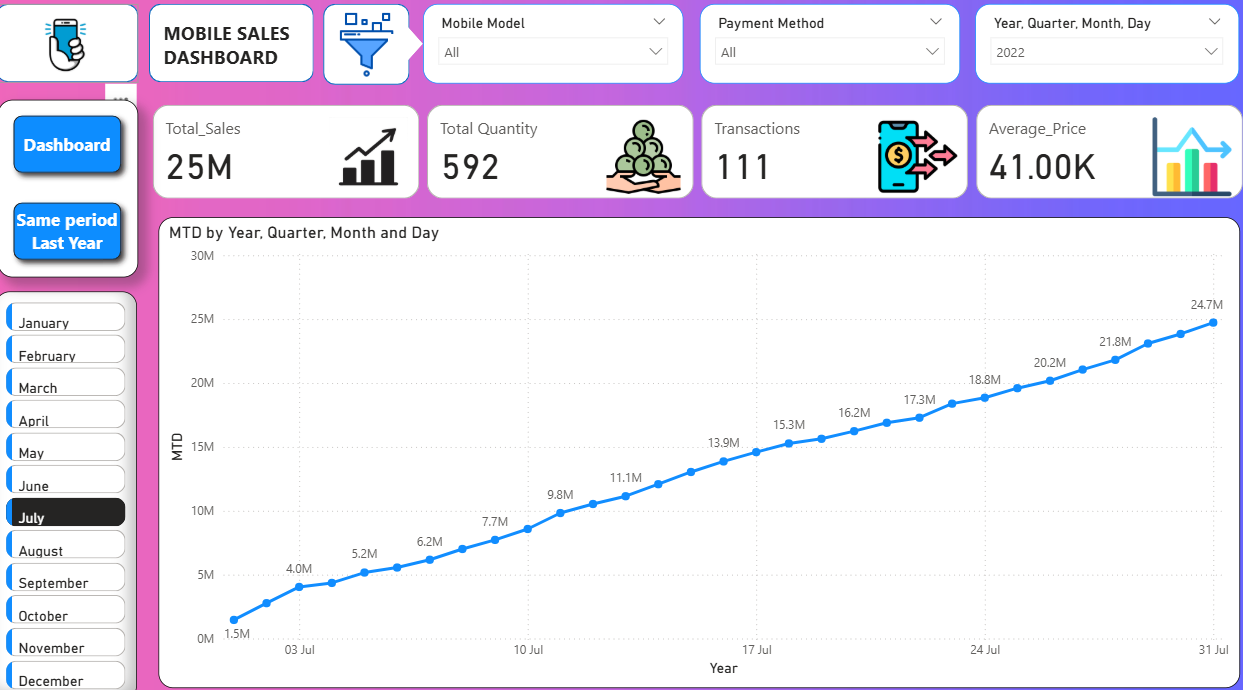

This screenshot's page, from the dashboard's own definition file:
{"tool":"powerbi","page":{"name":"MTD Report","canvas":[1280,720],"ordinal":1},"visuals":[{"type":"shape","box":[9.6,15,143.6,79.3],"z":0},{"type":"image","box":[32,16,96,80],"z":1000},{"type":"cardVisual","fields":{"Data":["Sales_Data.Total_Sales","Sales_Data.Total Quantity","Sales_Data.Transactions","Sales_Data.Average_Price"]},"box":[163.3,112.2,1116.7,105.6],"z":3000},{"type":"slicer","fields":{"Values":["Sales_Data.Mobile Model"]},"box":[442.1,14.8,263.9,80.8],"z":4000},{"type":"slicer","fields":{"Values":["Sales_Data.Payment Method"]},"box":[722.5,14.8,263.9,80.8],"z":5000},{"type":"slicer","fields":{"Values":["Custom_Calendar.Date.Variation.Date Hierarchy.Year","Custom_Calendar.Date.Variation.Date Hierarchy.Quarter","Custom_Calendar.Date.Variation.Date Hierarchy.Month","Custom_Calendar.Date.Variation.Date Hierarchy.Day"]},"box":[1001.2,14.8,267.2,80.8],"z":6000},{"type":"shape","box":[340.5,15,87.5,82],"z":7000},{"type":"image","box":[345.9,16.4,76.6,80.7],"z":8000},{"type":"shape","box":[406.1,35.6,35.6,39.7],"z":9000},{"type":"shape","box":[164.1,15,166.8,79.3],"z":10000},{"type":"textbox","box":[173.6,26,147.7,58.8],"z":11000},{"type":"lineChart","fields":{"Y":["Sales_Data.MTD"],"Category":["Custom_Calendar.Date.Variation.Date Hierarchy.Year","Custom_Calendar.Date.Variation.Date Hierarchy.Quarter","Custom_Calendar.Date.Variation.Date Hierarchy.Month","Custom_Calendar.Date.Variation.Date Hierarchy.Day"]},"box":[173.2,230.9,1095.2,476.7],"z":12000},{"type":"advancedSlicerVisual","fields":{"Values":["Custom_Calendar.Date.Variation.Date Hierarchy.Month"]},"box":[8.2,306.8,143.5,414],"z":13000},{"type":"pageNavigator","box":[11.5,112.2,141.9,179.8],"z":14000}]}

Visuals, with their boxes in screenshot pixels (x1, y1, x2, y2), scaled from the page's 1280x720 canvas onto the 1243x690 screenshot:
shape: crop(9, 14, 149, 90)
image: crop(31, 15, 124, 92)
cardVisual - Sales_Data.Total_Sales x Sales_Data.Total Quantity: crop(159, 108, 1242, 209)
slicer - Sales_Data.Mobile Model: crop(429, 14, 686, 92)
slicer - Sales_Data.Payment Method: crop(702, 14, 958, 92)
slicer - Custom_Calendar.Date.Variation.Date Hierarchy.Year x Custom_Calendar.Date.Variation.Date Hierarchy.Quarter: crop(972, 14, 1232, 92)
shape: crop(331, 14, 416, 93)
image: crop(336, 16, 410, 93)
shape: crop(394, 34, 429, 72)
shape: crop(159, 14, 321, 90)
textbox: crop(169, 25, 312, 81)
lineChart - Sales_Data.MTD x Custom_Calendar.Date.Variation.Date Hierarchy.Year: crop(168, 221, 1232, 678)
advancedSlicerVisual - Custom_Calendar.Date.Variation.Date Hierarchy.Month: crop(8, 294, 147, 689)
pageNavigator: crop(11, 108, 149, 280)
